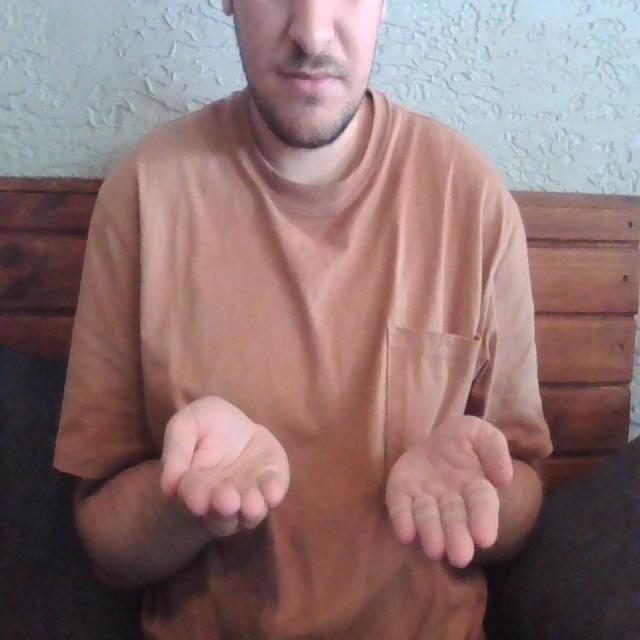Evet: (152, 387, 519, 573)
